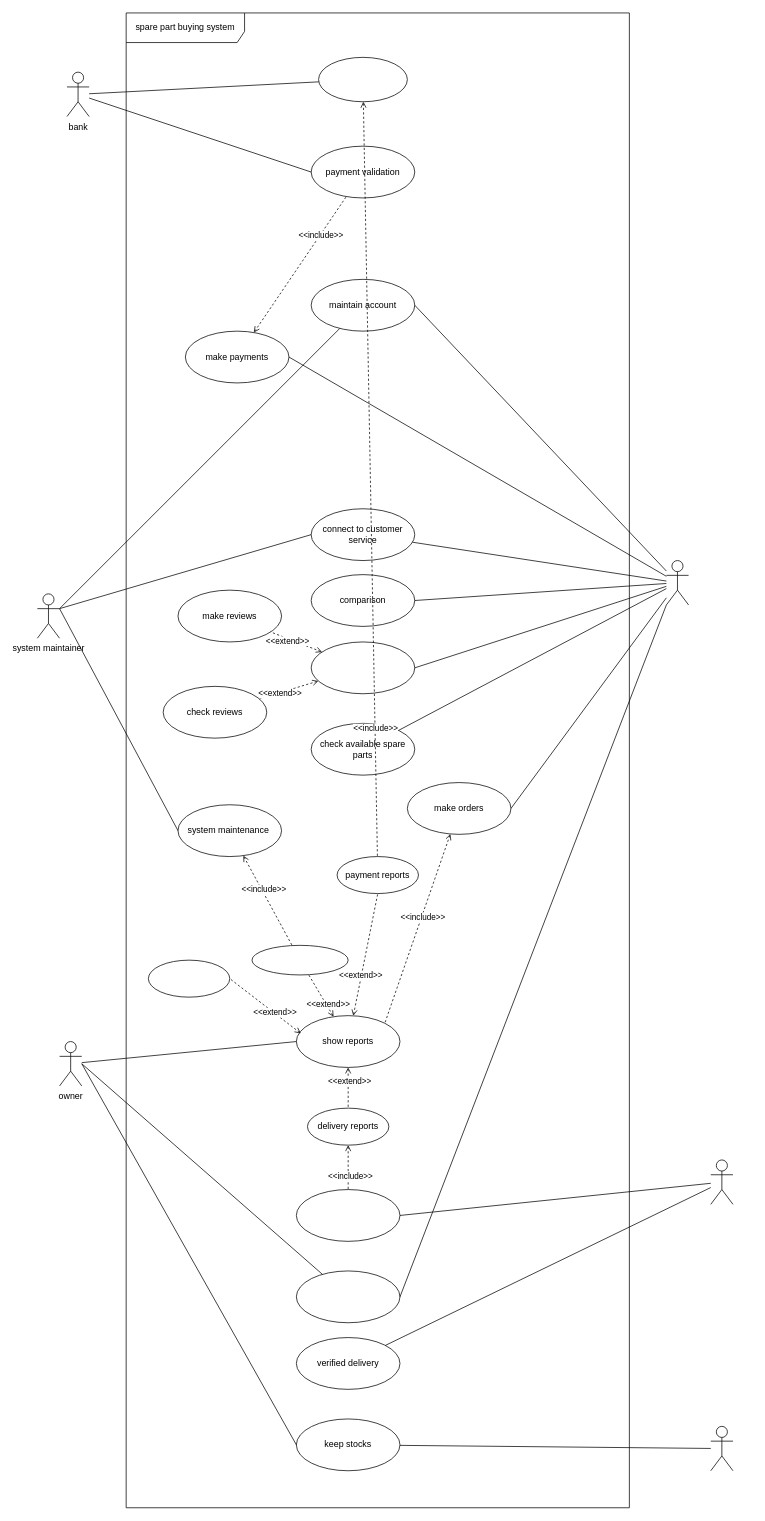
The diagram is 765 pixels wide and 1521 high, and some of its shapes have lost their labels. The shapes that lost their labels are listed below. From the top down, each one's centre as x and y in pixels, then its label:
(x=362, y=79): create reports
(x=677, y=582): customer
(x=362, y=667): reviews
(x=189, y=978): stock reports
(x=299, y=960): system performance reports
(x=721, y=1181): delivery partner
(x=348, y=1215): delivery details
(x=348, y=1296): view current order
(x=721, y=1448): supplier
